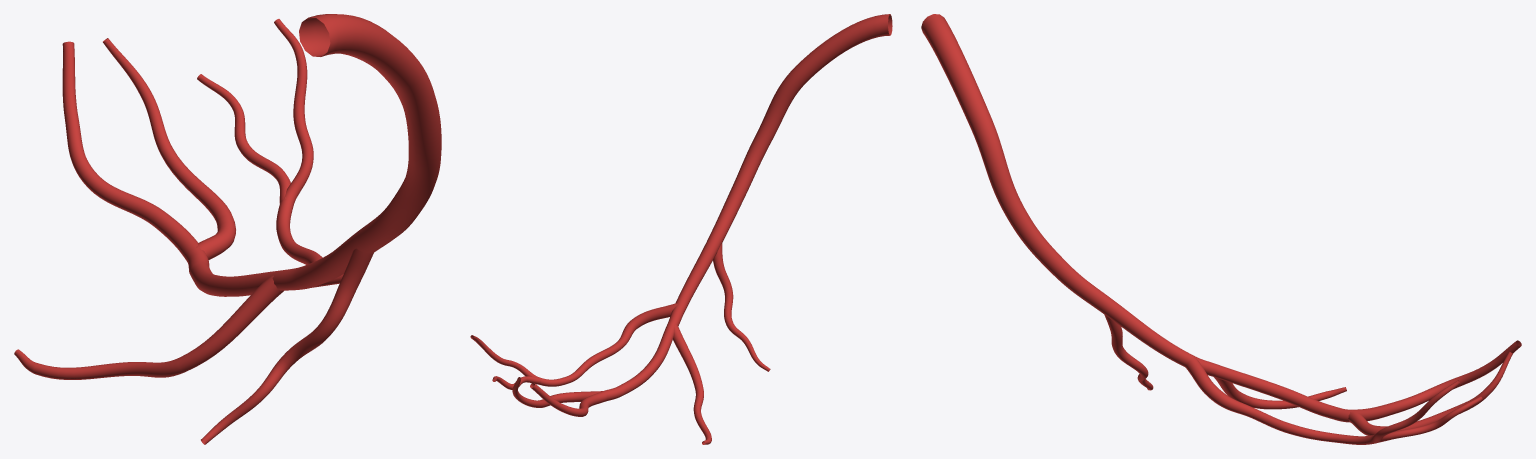
3 views of the same model, side by side, from view 1: azimuth 30°, elevation 25°; view 2: azimuth 150°, elevation 25°; view 3: azimuth 270°, elevation 25° (orthographic). The views are drawn at different scales.
Visible parts, largest first — view 1: 前室间支; view 2: 前室间支; view 3: 前室间支.
Part boxes in pixels (x1,y1,x2,y2): 前室间支: (14, 14, 441, 444); 前室间支: (470, 14, 892, 444); 前室间支: (921, 14, 1521, 444).
Size of the model in its own units: 0.0578 by 0.0832 by 0.1208.
